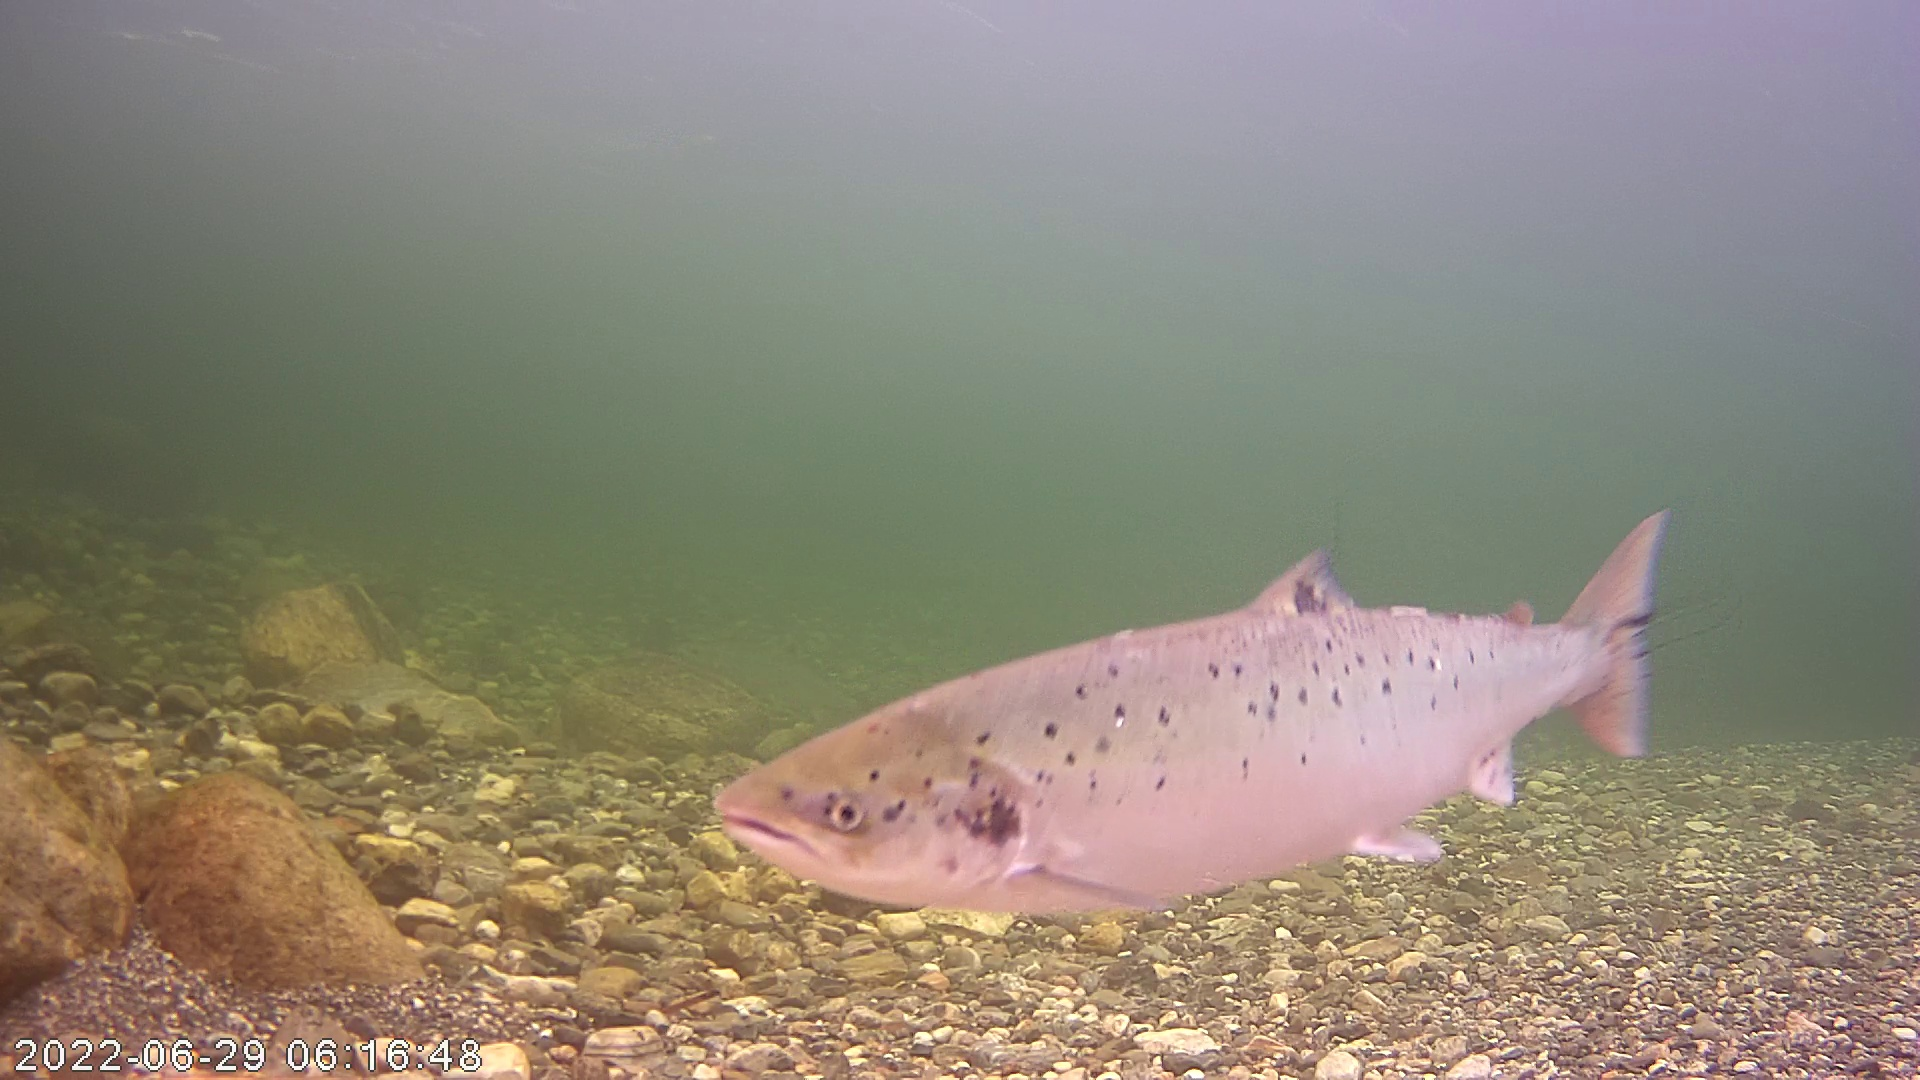salmon: (727, 442, 1673, 920)
